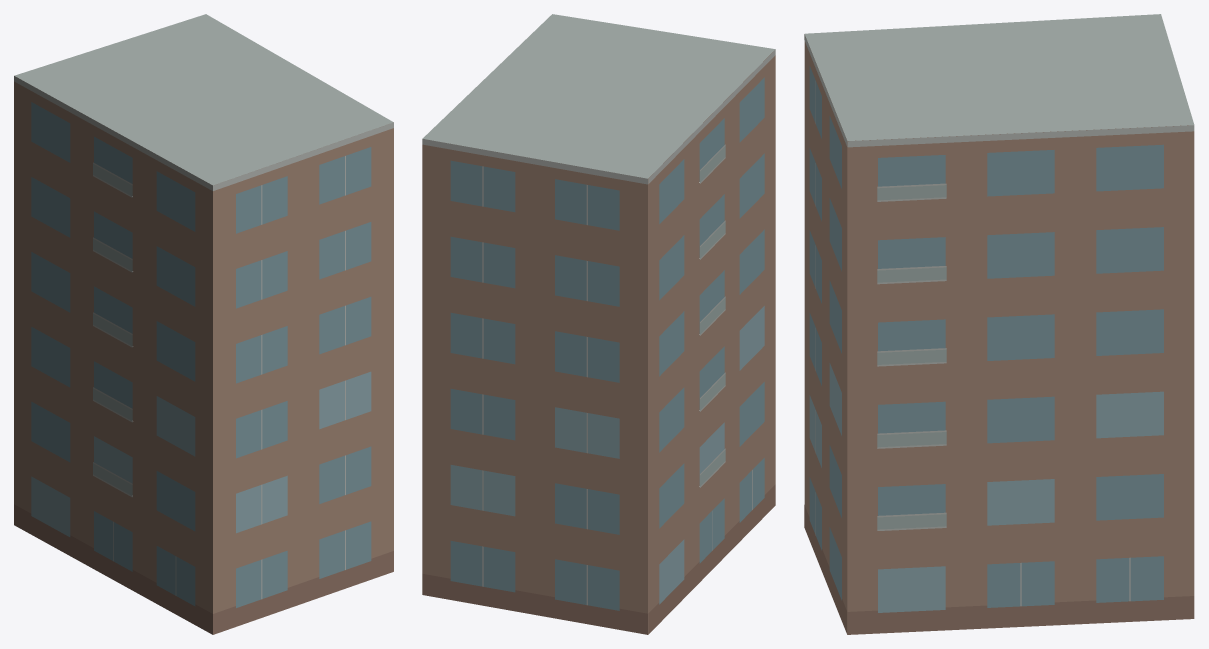
File: survey-upis-32957049.glb
3 renders of one model, left to right at view 1: azimuth 30°, elevation 25°; view 2: azimuth 150°, elevation 25°; view 3: azimuth 270°, elevation 25°, orthographic. The views are drawn at different scales.
Parts seen in each view (by area): view 1: survey-upis-32957049.tmp; view 2: survey-upis-32957049.tmp; view 3: survey-upis-32957049.tmp.
Boxes of the visible parts, x1,y1,x2,y2 form: survey-upis-32957049.tmp: [14, 14, 393, 634]; survey-upis-32957049.tmp: [422, 14, 775, 634]; survey-upis-32957049.tmp: [804, 14, 1194, 634].
Size of the model in its own units: 10.61 by 19.2 by 13.76.
